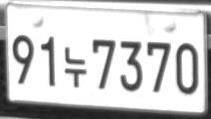0: (175, 42, 199, 94)
1: (39, 35, 60, 86)
3: (119, 41, 142, 90)
7: (146, 41, 172, 93), (92, 38, 115, 89)
9: (12, 33, 34, 84)
누: (64, 46, 86, 87)
